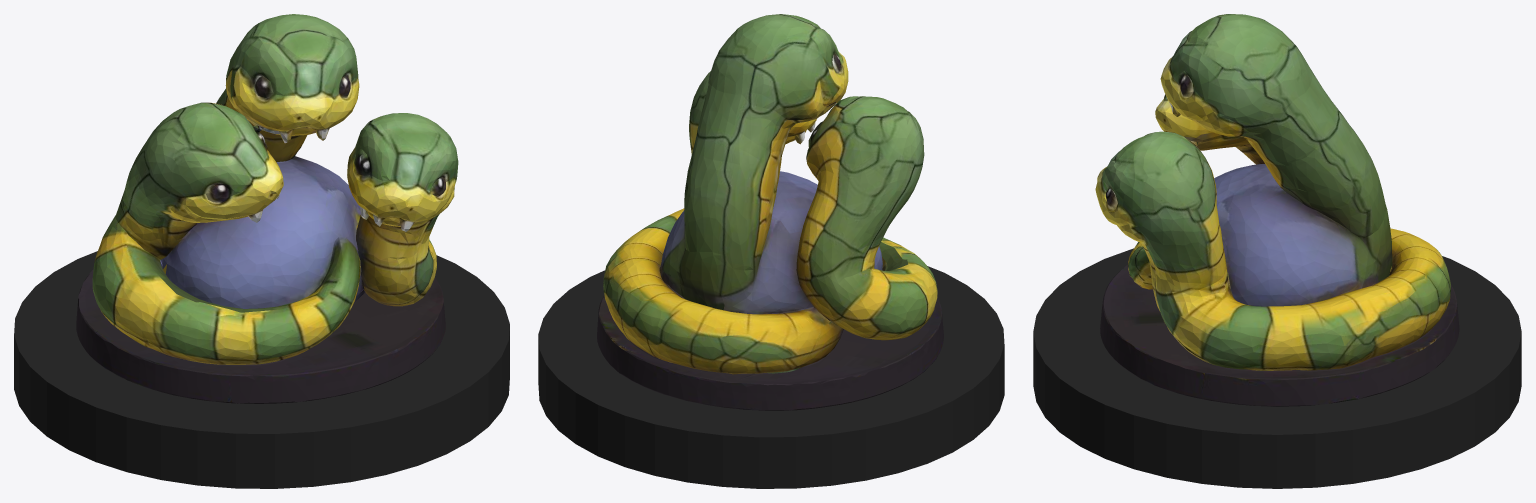
Rendered from ser-venomites.glb.
3 renders of one model, left to right at view 1: azimuth 30°, elevation 25°; view 2: azimuth 150°, elevation 25°; view 3: azimuth 270°, elevation 25°, orthographic. The views are drawn at different scales.
Parts seen in each view (by area): view 1: figure, base; view 2: figure, base; view 3: figure, base.
Boxes of the visible parts, <box> form: figure: <box>76,14,458,403</box>; base: <box>14,251,509,488</box>; figure: <box>597,14,943,410</box>; base: <box>538,266,1004,488</box>; figure: <box>1095,14,1459,406</box>; base: <box>1033,248,1521,488</box>.
Size of the model in its own units: 0.9843 by 0.82 by 0.9843.
2 materials, 1 textured.
